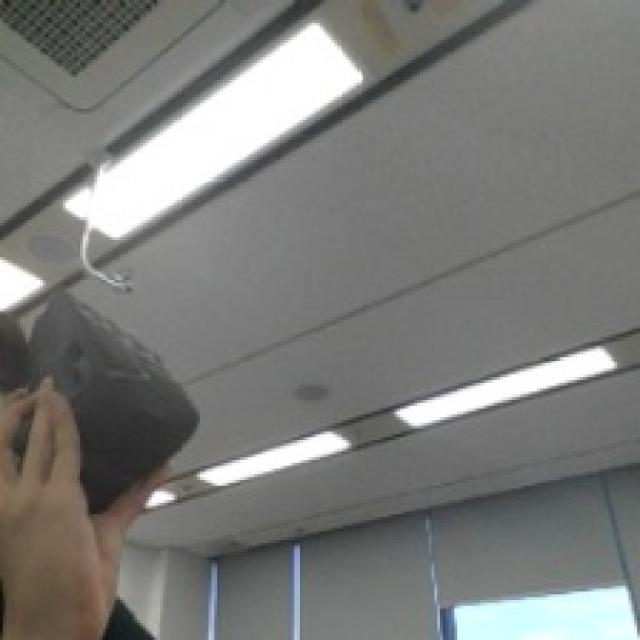shoe: (34, 292, 199, 492)
